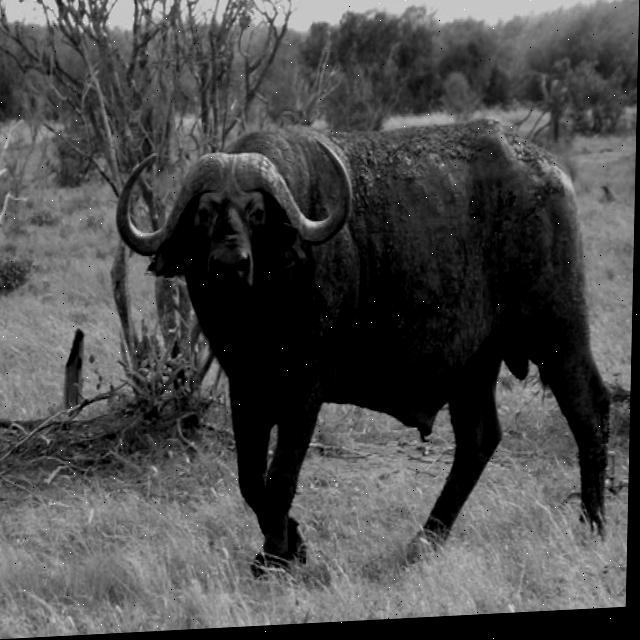Buffalo: (104, 109, 618, 596)
